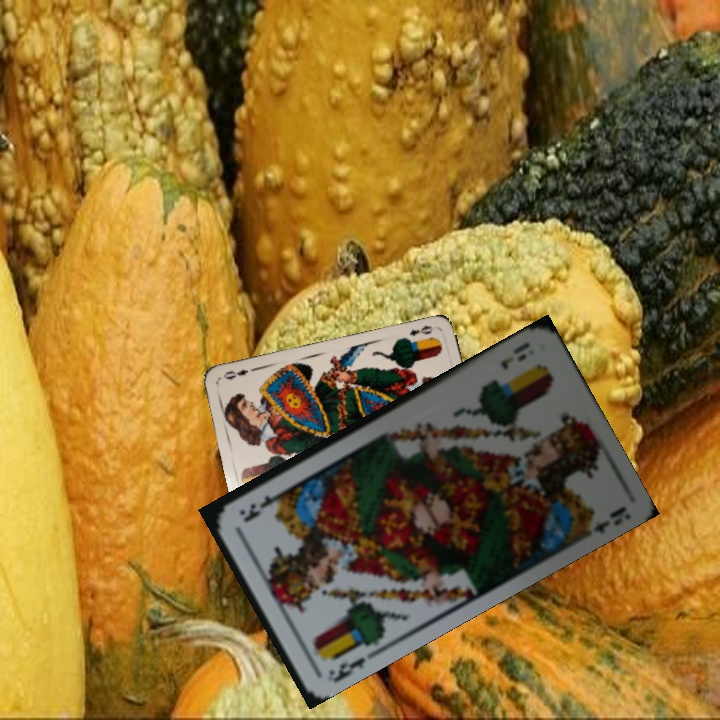EK: (329, 653, 368, 686), (497, 338, 533, 373)
EO: (405, 321, 440, 339)
